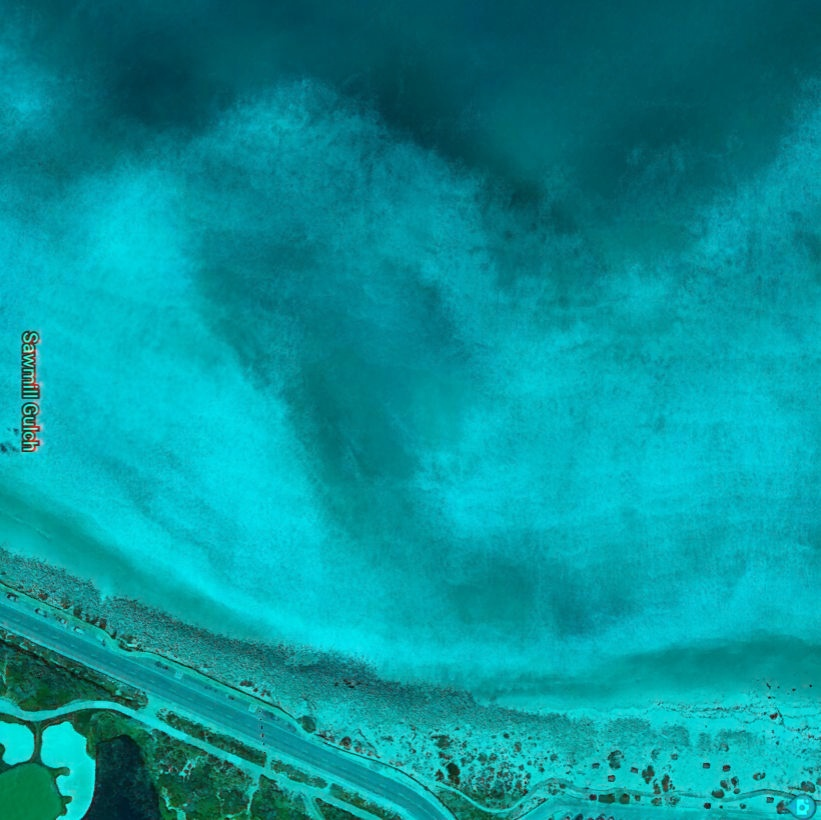rip_current: (158, 156, 579, 633)
